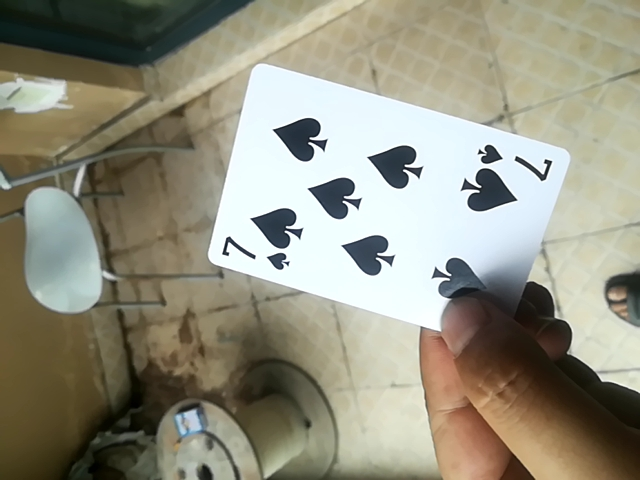ht 7: (207, 60, 575, 348)
